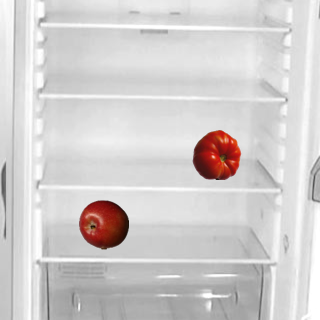Apple Braeburn: (78, 199, 128, 249)
Tomato 3: (191, 129, 241, 179)
